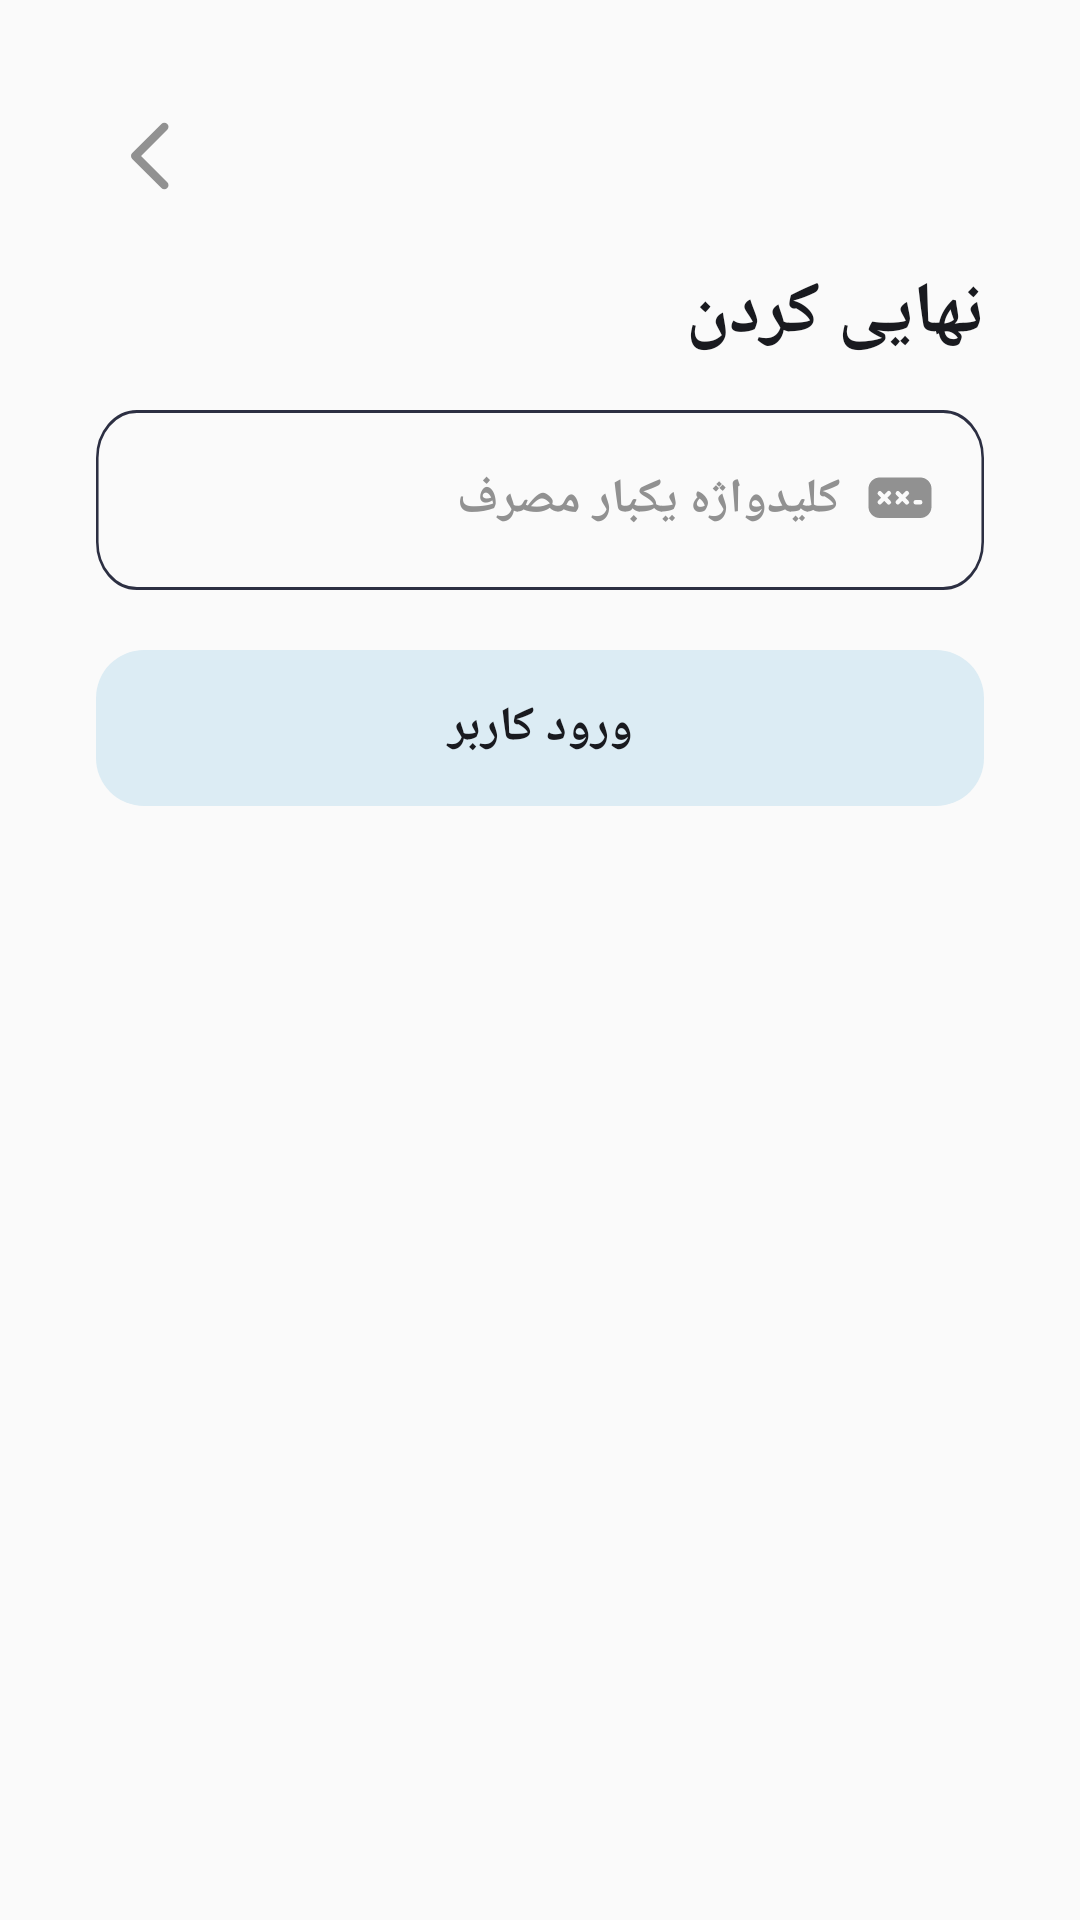

Screen size 1080px x 1920px. Icon name, then its box in pixels as (x1, y1, x2, y2):
back: (131, 123, 169, 189)
